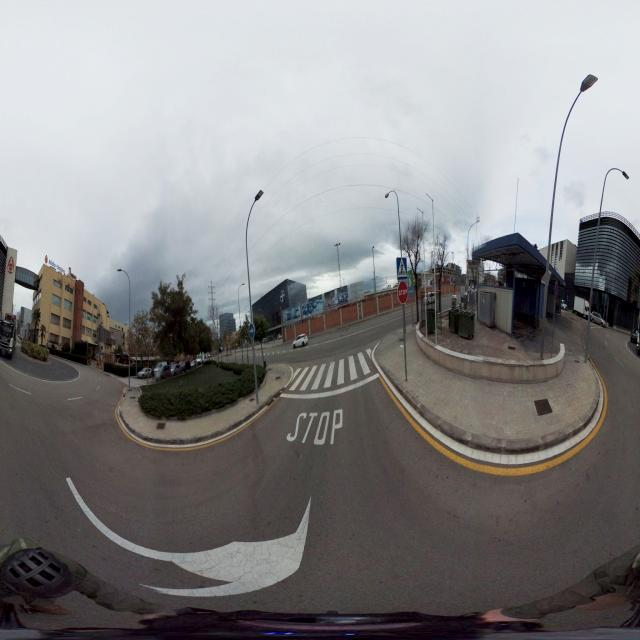car: (47, 336, 60, 354), (292, 334, 308, 348)
